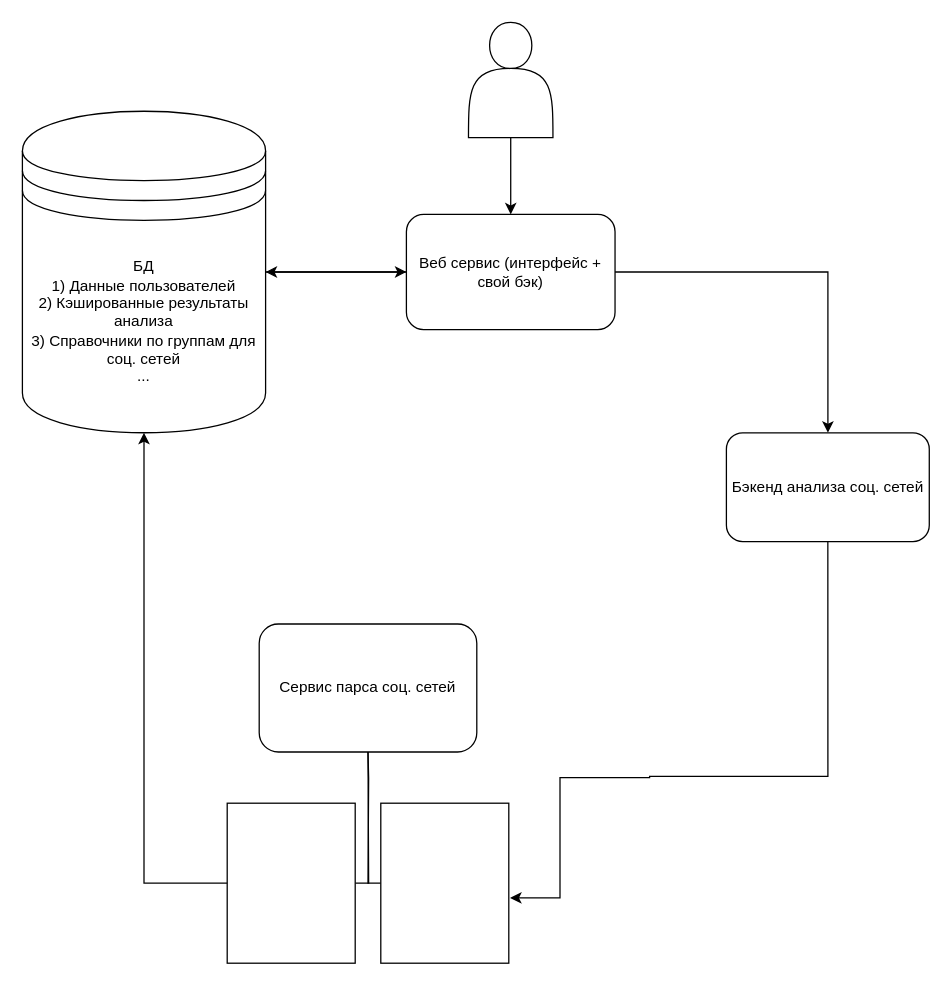
Image size: 952x986. Some labels were removed from this diagram. The shapes that lost their labels are listed below. From the top down, each one's centre as x and y in pixels, then its label:
At point 290,882: "Статический парс для справочников (выполняется переодически)".
At point 444,882: "Динамический парс (выполняется каждый раз при анализе юзера)".
